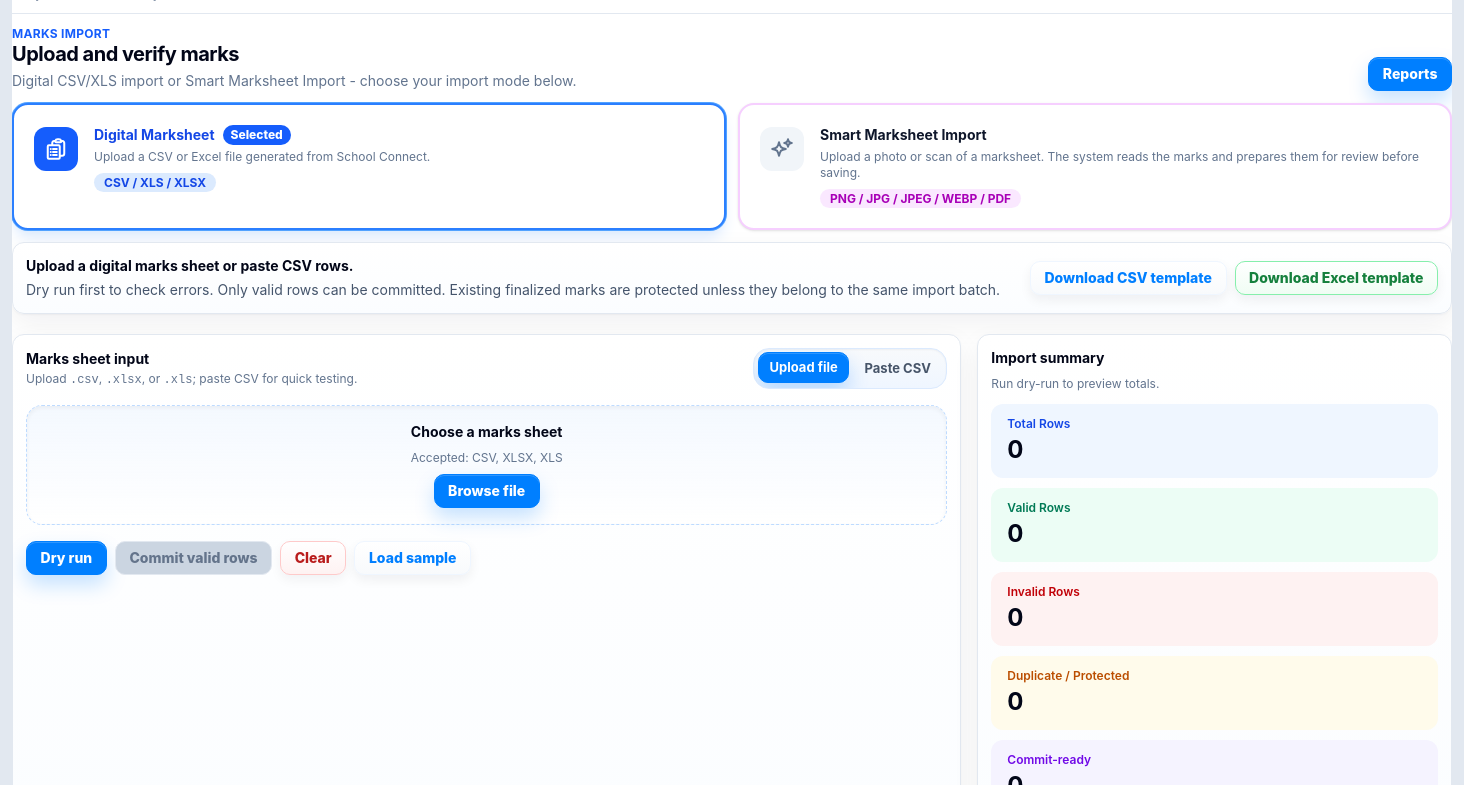
MarksImportPage modes › offers Smart Marksheet Import as an additional mode
The image size is (1464, 785).
Click the text "Smart Marksheet Import" at (903, 135), box [820,125,987,145]
(page scrolled)
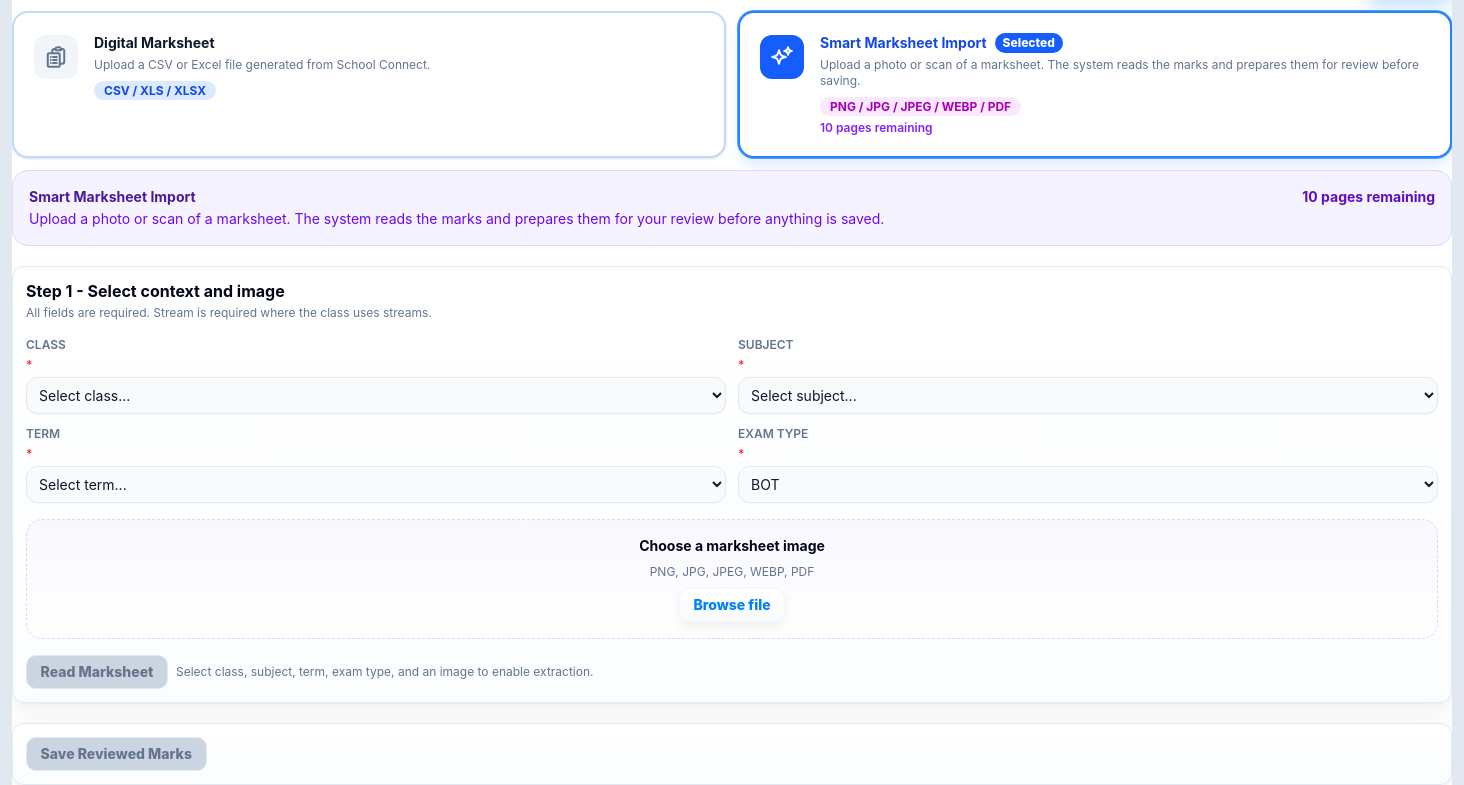
Check: the button "Read Marksheet" is shown, box [26,655,168,689]
Check: the button "Save Reviewed Marks" is shown, box [26,737,206,771]
